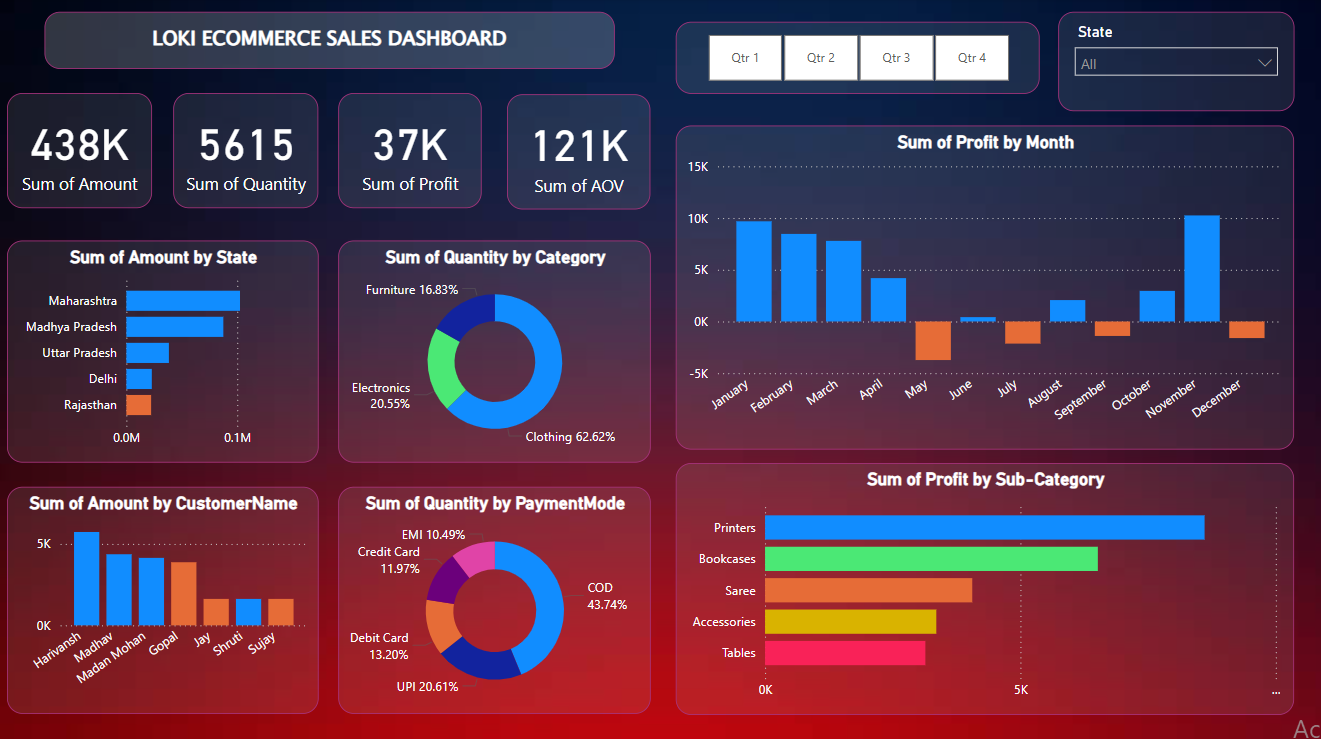

What the dashboard file says about the page in this screenshot:
{"tool":"powerbi","page":{"name":"Page 1","canvas":[1280,720],"ordinal":0},"visuals":[{"type":"textbox","box":[45.3,13.7,550.3,54.9],"z":0},{"type":"columnChart","fields":{"Category":["Orders.Order Date.Variation.Date Hierarchy.Month"],"Y":["Details.Profit"]},"box":[654.5,123.5,596.9,312.9],"z":1000},{"type":"barChart","fields":{"Category":["Details.Sub-Category"],"Y":["Details.Profit"]},"box":[654.5,448.7,596.9,242.9],"z":2000},{"type":"donutChart","fields":{"Category":["Details.Category"],"Y":["Details.Quantity"]},"box":[329.3,234.6,301.9,214.1],"z":3000},{"type":"donutChart","fields":{"Y":["Details.Quantity"],"Category":["Details.PaymentMode"]},"box":[329.3,472,301.9,219.6],"z":4000},{"type":"card","fields":{"Values":["Details.Amount"]},"box":[9.6,91.9,140,111.1],"z":5000},{"type":"card","fields":{"Values":["Details.Quantity"]},"box":[170.2,91.9,140,111.1],"z":6000},{"type":"card","fields":{"Values":["Details.Profit"]},"box":[329.3,91.9,138.6,111.1],"z":7000},{"type":"card","fields":{"Values":["Details.AOV"]},"box":[492.6,93.3,138.6,111.1],"z":8000},{"type":"barChart","fields":{"Y":["Details.Amount"],"Category":["Orders.State"]},"box":[9.6,234.6,300.5,214.1],"z":9000},{"type":"columnChart","fields":{"Category":["Orders.CustomerName"],"Y":["Details.Amount"]},"box":[9.6,472,300.5,219.6],"z":10000},{"type":"slicer","fields":{"Values":["Orders.Order Date.Variation.Date Hierarchy.Quarter"]},"box":[654.5,23.3,351.3,70],"z":11000},{"type":"slicer","fields":{"Values":["Orders.State"]},"box":[1023.7,13.7,227.8,96.1],"z":12000}]}

Visuals, with their boxes in screenshot pixels (x1, y1, x2, y2), scaled from the page's 1280x720 canvas onto the 1321x739 screenshot:
textbox: <region>47, 14, 615, 70</region>
columnChart - Orders.Order Date.Variation.Date Hierarchy.Month x Details.Profit: <region>675, 127, 1291, 448</region>
barChart - Details.Sub-Category x Details.Profit: <region>675, 461, 1291, 710</region>
donutChart - Details.Category x Details.Quantity: <region>340, 241, 651, 461</region>
donutChart - Details.Quantity x Details.PaymentMode: <region>340, 484, 651, 710</region>
card - Details.Amount: <region>10, 94, 154, 208</region>
card - Details.Quantity: <region>176, 94, 320, 208</region>
card - Details.Profit: <region>340, 94, 483, 208</region>
card - Details.AOV: <region>508, 96, 651, 210</region>
barChart - Details.Amount x Orders.State: <region>10, 241, 320, 461</region>
columnChart - Orders.CustomerName x Details.Amount: <region>10, 484, 320, 710</region>
slicer - Orders.Order Date.Variation.Date Hierarchy.Quarter: <region>675, 24, 1038, 96</region>
slicer - Orders.State: <region>1056, 14, 1292, 113</region>
